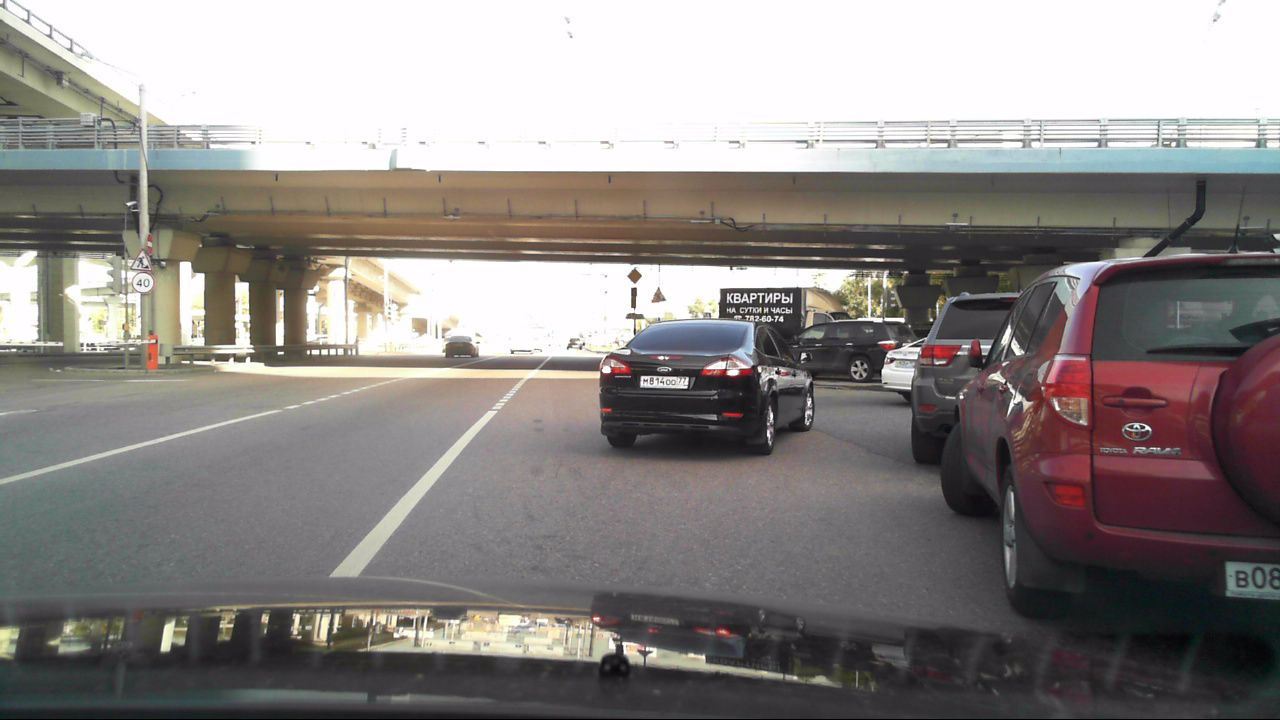speed_warning_40: (131, 272, 155, 295)
